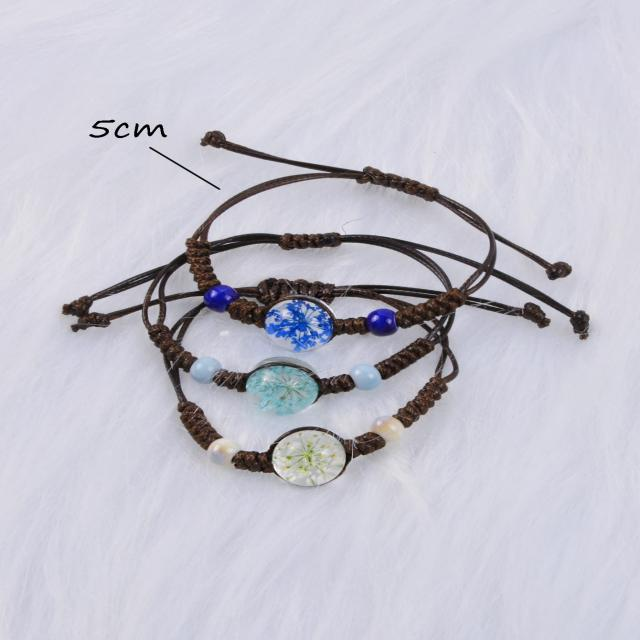bracelet: (10, 70, 609, 538)
